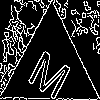M: (25, 41, 78, 100)
